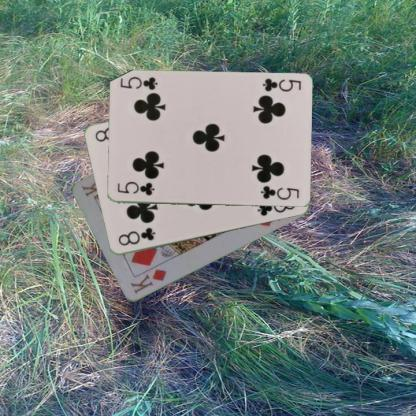5c: (115, 179, 156, 197), (260, 76, 302, 93)
8c: (116, 225, 156, 247)
Kd: (127, 266, 168, 296)
